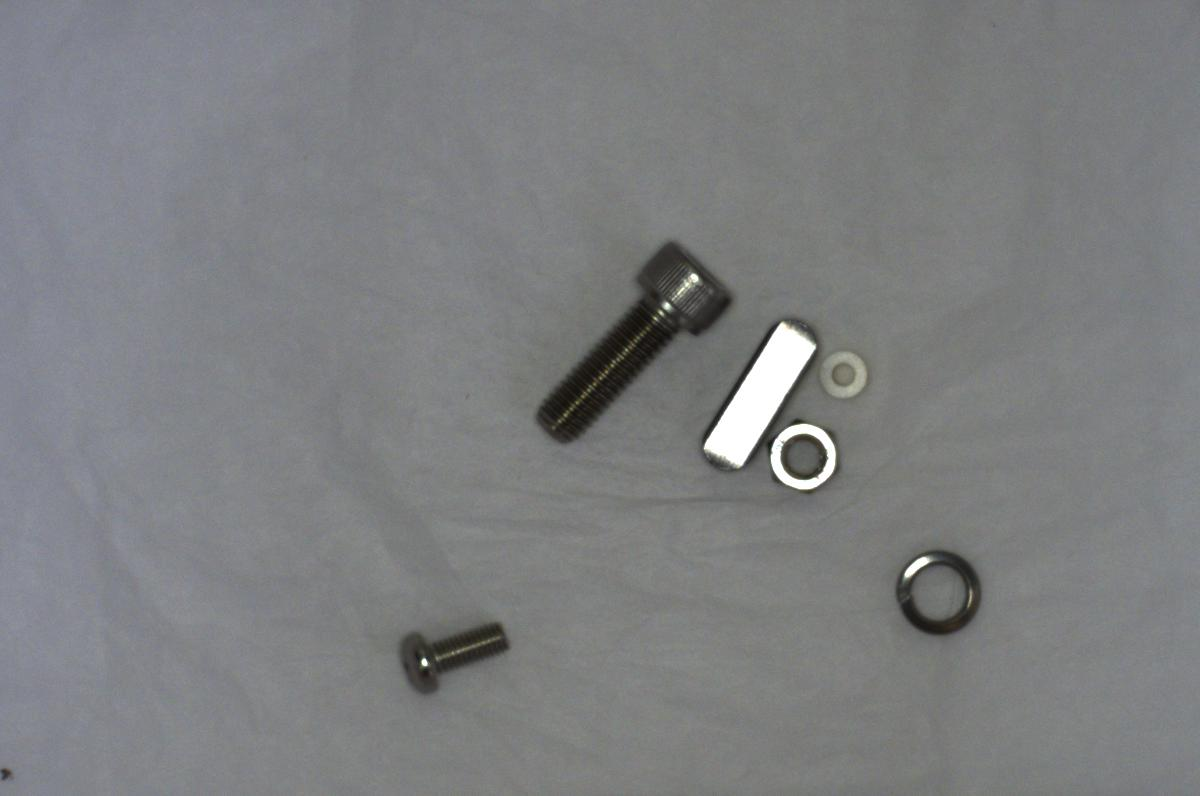Hexagon nut: (762, 418, 853, 495)
Hexagon screw: (521, 235, 733, 451)
Keybar: (696, 310, 825, 477)
Plastic cushion pillar: (807, 344, 873, 401)
Round head screw: (389, 604, 515, 701)
Spring washer: (882, 541, 998, 651)
